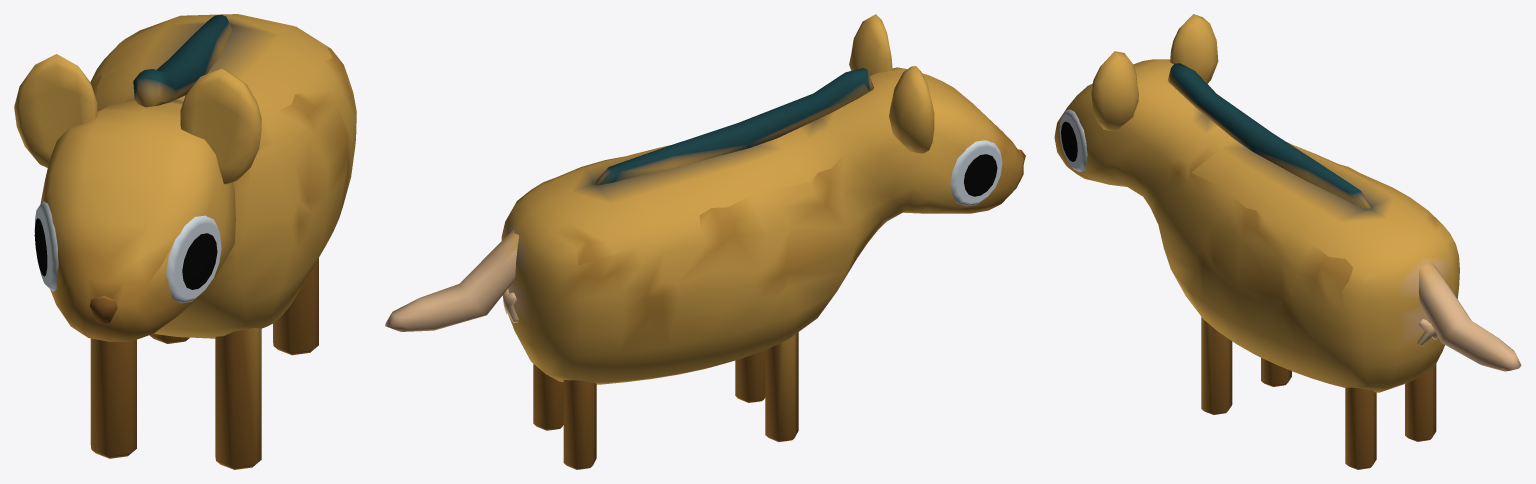
Rendered from Hyena.glb.
3 renders of one model, left to right at view 1: azimuth 30°, elevation 25°; view 2: azimuth 150°, elevation 25°; view 3: azimuth 270°, elevation 25°, orthographic. The views are drawn at different scales.
Visible parts, largest first — view 1: 74; view 2: 74; view 3: 74.
Boxes of the visible parts, x1,y1,x2,y2 form: 74: (14,14,356,469); 74: (385,14,1025,469); 74: (1054,14,1521,469).
Bounding box in the file's own units: 0.8553 × 0.7298 × 0.9418.
